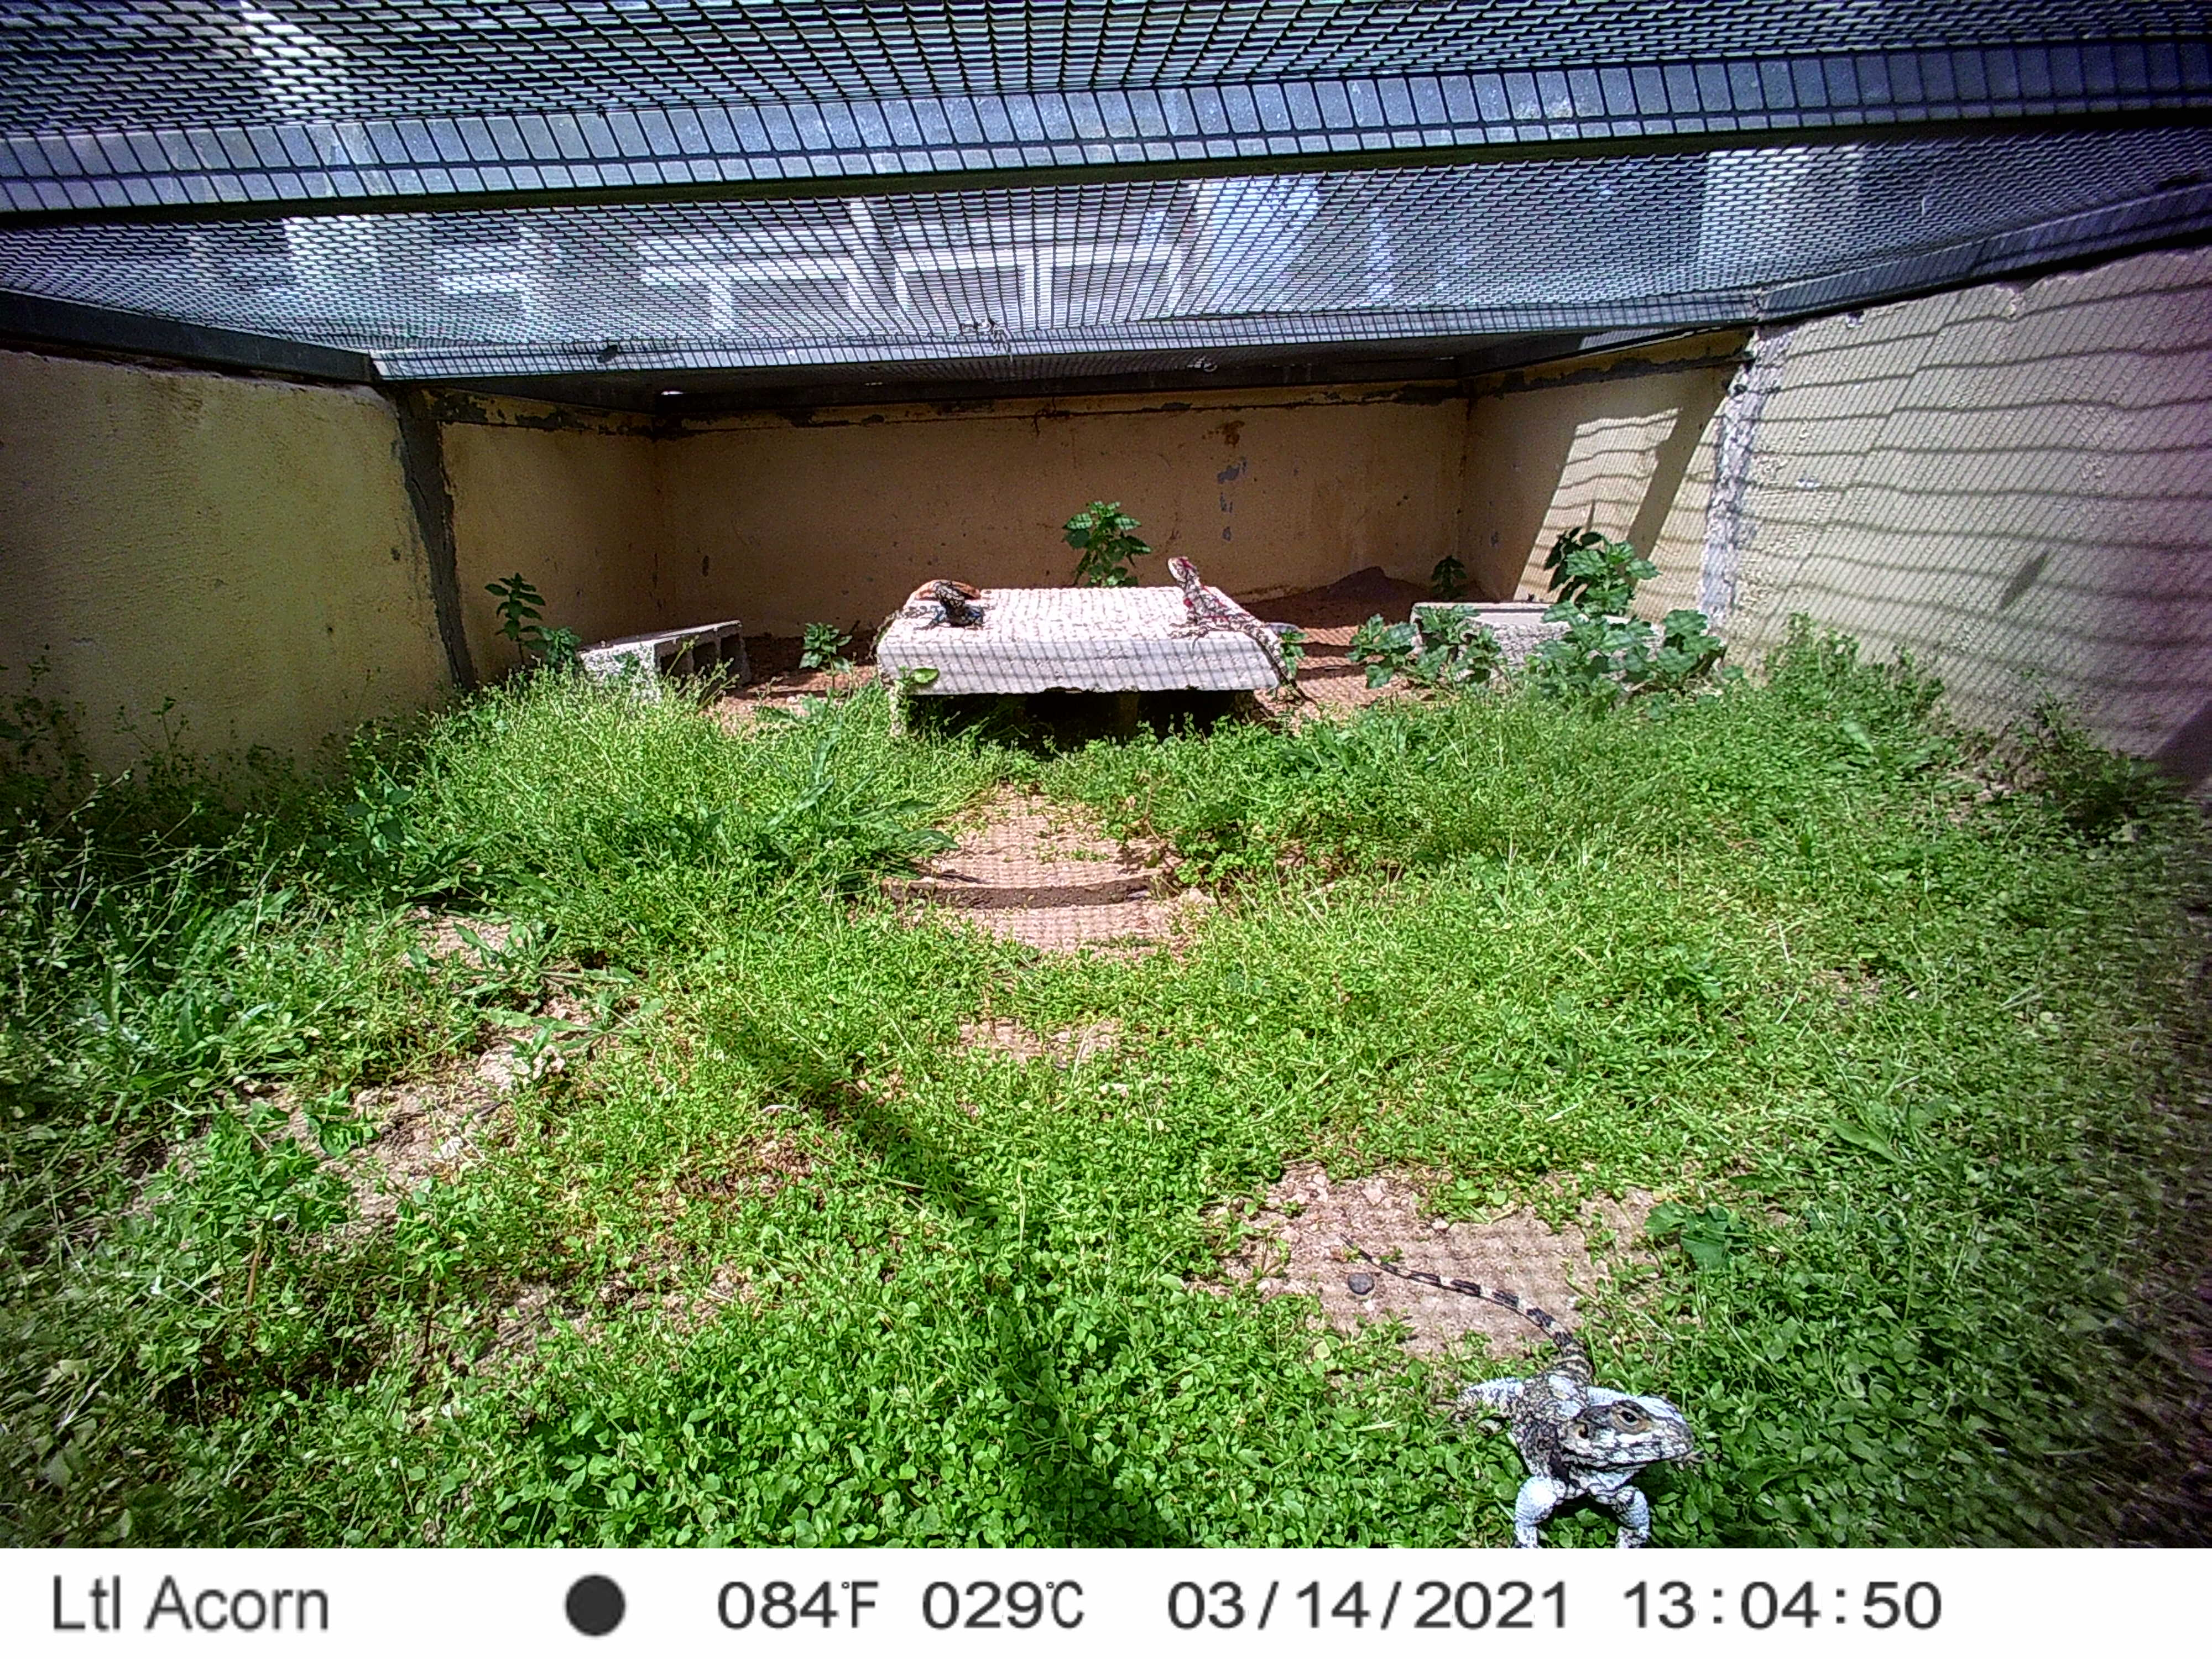lizard: (1332, 1232, 1702, 1547), (1162, 551, 1313, 706), (864, 579, 988, 660)
